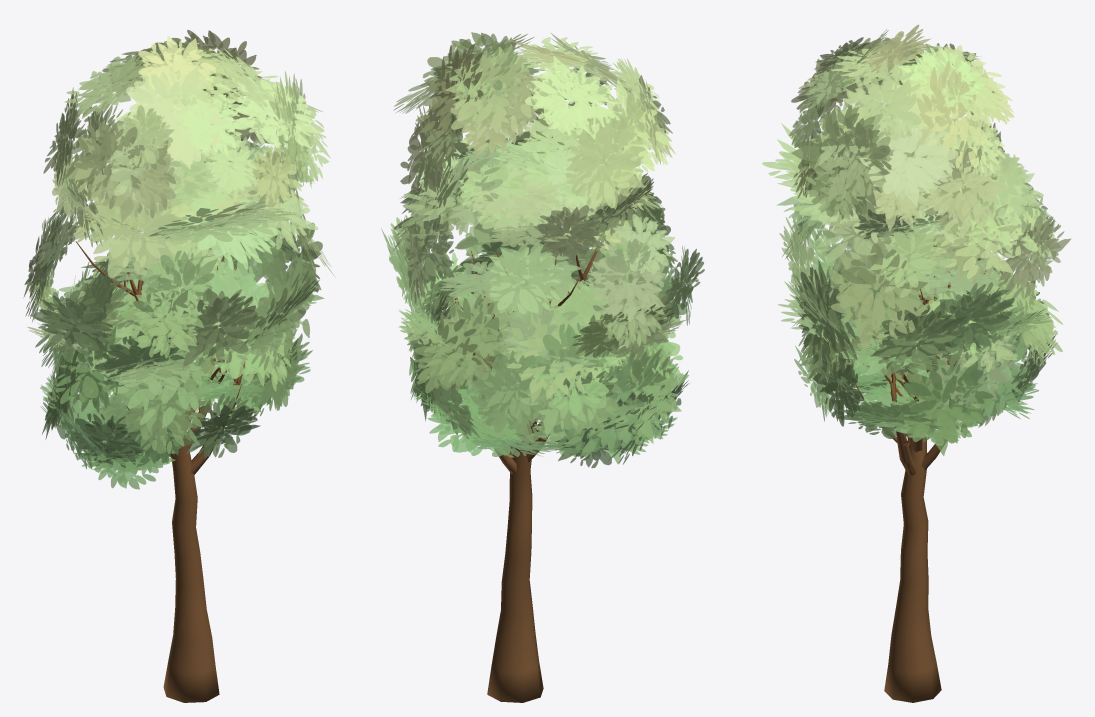
File: test_tree_7.glb
3 renders of one model, left to right at view 1: azimuth 30°, elevation 25°; view 2: azimuth 150°, elevation 25°; view 3: azimuth 270°, elevation 25°, orthographic.
Parts seen in each view (by area): view 1: FoilageMaker Tree Export; view 2: FoilageMaker Tree Export; view 3: FoilageMaker Tree Export.
Boxes of the visible parts, x1,y1,x2,y2 form: FoilageMaker Tree Export: [23, 30, 335, 702]; FoilageMaker Tree Export: [381, 32, 704, 702]; FoilageMaker Tree Export: [762, 24, 1071, 702].
Size of the model in its own units: 4.29 by 8.78 by 4.11.
Materials: 2 (1 with a texture image).
